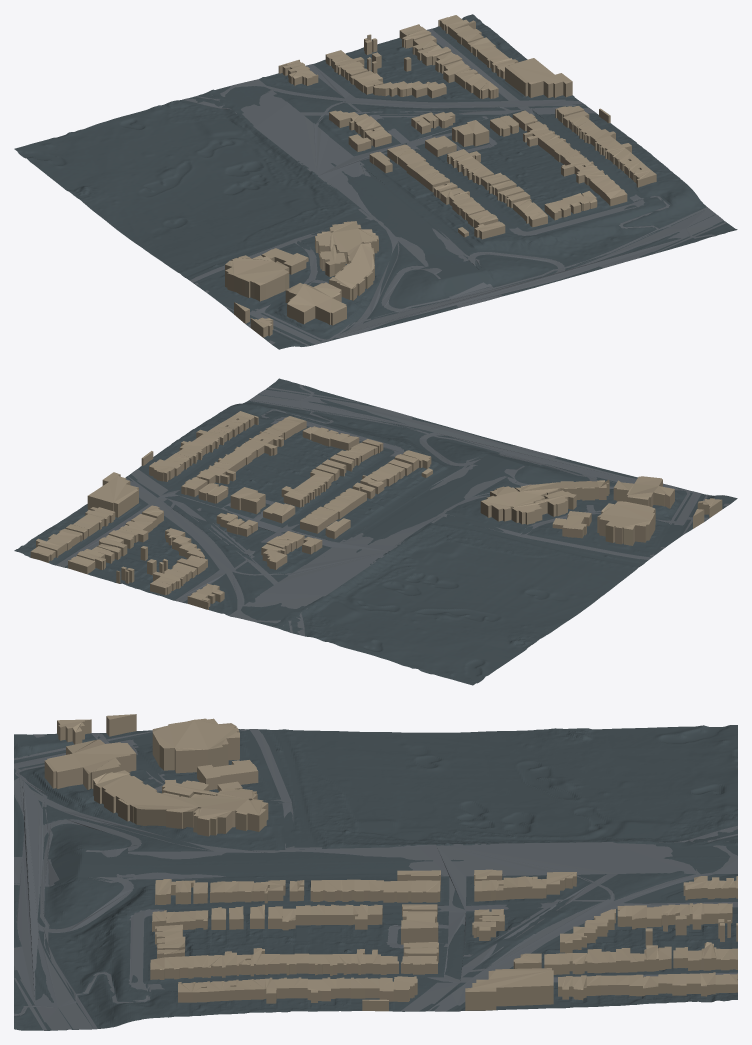
The model's file is epsg26910-1423-10869.lod0.glb.
3 renders of one model, top to bottom at view 1: azimuth 30°, elevation 25°; view 2: azimuth 150°, elevation 25°; view 3: azimuth 270°, elevation 25°, orthographic. The views are drawn at different scales.
Parts seen in each view (by area): view 1: epsg26910-1423-10869-lod0; view 2: epsg26910-1423-10869-lod0; view 3: epsg26910-1423-10869-lod0.
Boxes of the visible parts, left/top/right/bottom form: epsg26910-1423-10869-lod0: left=14, top=14, right=737, bottom=349; epsg26910-1423-10869-lod0: left=14, top=378, right=737, bottom=685; epsg26910-1423-10869-lod0: left=14, top=714, right=737, bottom=1030.
Bounding box in the file's own units: 384 × 32.64 × 384.
